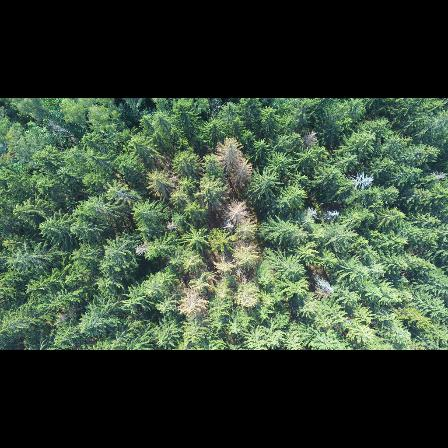Dead: (310, 271, 336, 298), (350, 169, 377, 193), (322, 207, 346, 223), (133, 241, 151, 258), (219, 217, 236, 234)
